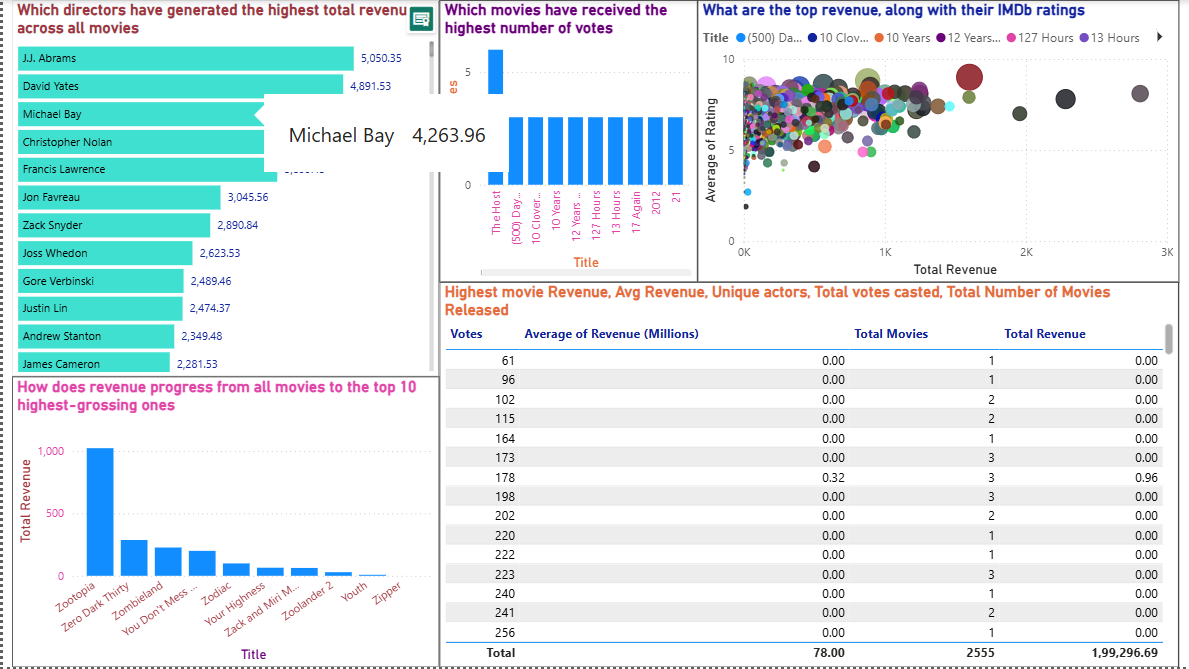

What the dashboard file says about the page in this screenshot:
{"tool":"powerbi","page":{"name":"Page 3","canvas":[1280,720],"ordinal":2},"visuals":[{"type":"horizontalBarChartPBICraft","title":"Which directors have generated the highest total revenue across all movies","fields":{"measure":["IMDB-Movie-Data.Total Revenue"],"category":["IMDB-Movie-Data.Director"]},"box":[9.7,0,461.5,406.4],"z":0},{"type":"columnChart","title":"Which movies have received the highest number of votes","fields":{"Category":["IMDB-Movie-Data.Title"],"Y":["IMDB-Movie-Data.Total Movies"]},"box":[471.2,0,278.5,304.4],"z":1000},{"type":"columnChart","title":"How does revenue progress from all movies to the top 10 highest-grossing ones","fields":{"Y":["IMDB-Movie-Data.Total Revenue"],"Category":["IMDB-Movie-Data.Title"]},"box":[9.7,406.4,461.5,314.1],"z":2000},{"type":"scatterChart","title":"What are the top revenue, along with their IMDb ratings","fields":{"X":["IMDB-Movie-Data.Total Revenue"],"Series":["IMDB-Movie-Data.Title"],"Y":["Avg(IMDB-Movie-Data.Rating)"],"Size":["Sum(IMDB-Movie-Data.Votes)"]},"box":[749.7,0,519.8,304.4],"z":3000},{"type":"tableEx","title":"Highest movie Revenue, Avg Revenue, Unique actors, Total votes casted, Total Number of Movies Released","fields":{"Values":["IMDB-Movie-Data.Votes","Avg(IMDB-Movie-Data.Revenue (Millions))","IMDB-Movie-Data.Total Movies","IMDB-Movie-Data.Total Revenue"]},"box":[471.2,304.4,798.3,416.1],"z":4000}]}

Visuals, with their boxes in screenshot pixels (x1, y1, x2, y2), scaled from the page's 1280x720 canvas onto the 1189x669 screenshot:
"Which directors have generated the highest total revenue across all movies" horizontalBarChartPBICraft: BBox(9, 0, 438, 378)
"Which movies have received the highest number of votes" columnChart: BBox(438, 0, 696, 283)
"How does revenue progress from all movies to the top 10 highest-grossing ones" columnChart: BBox(9, 378, 438, 668)
"What are the top revenue, along with their IMDb ratings" scatterChart: BBox(696, 0, 1179, 283)
"Highest movie Revenue, Avg Revenue, Unique actors, Total votes casted, Total Number of Movies Released" tableEx: BBox(438, 283, 1179, 668)
